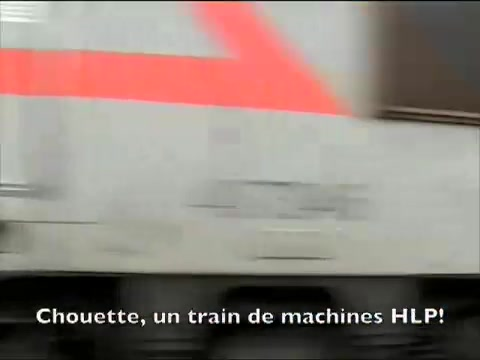train: (1, 1, 480, 285)
